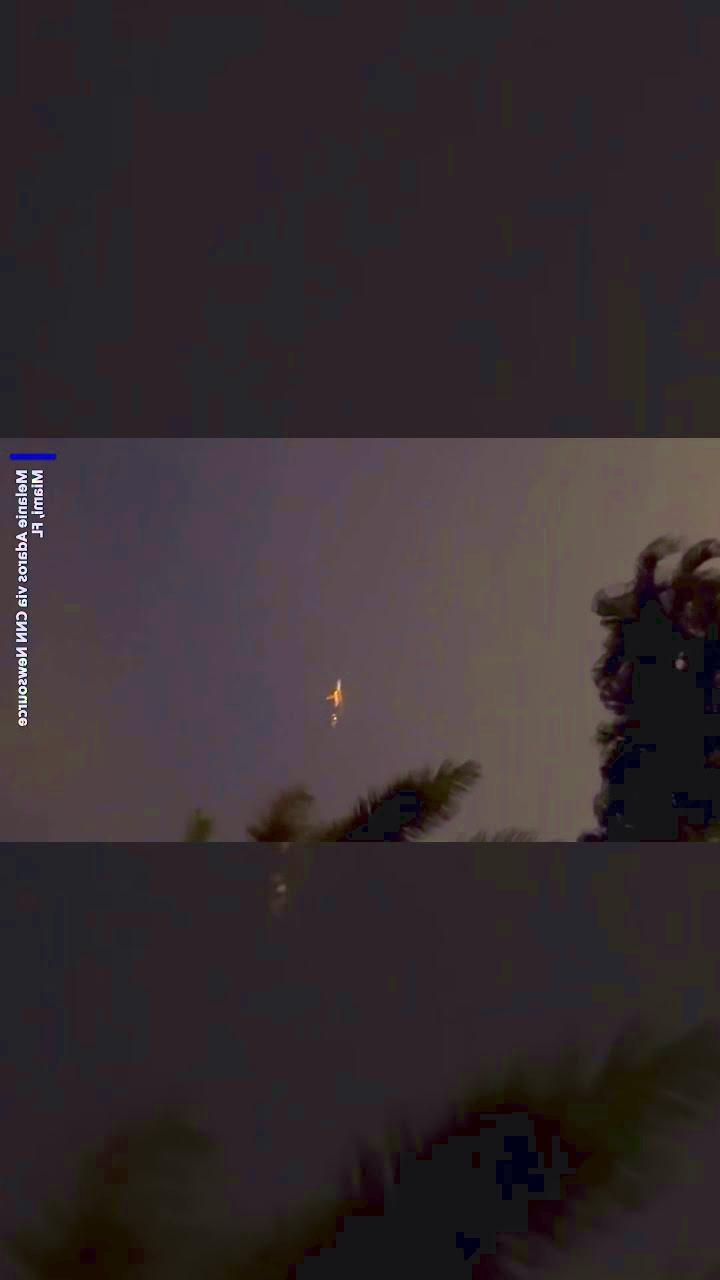Plane: (313, 667, 358, 740)
